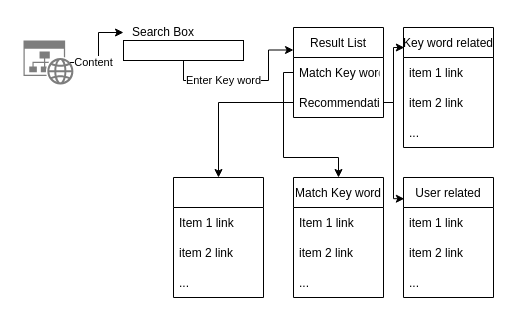
Some shapes in this 511 by 315 pixel diagram are drawn without their labels. Each missing label, with the box of its shape:
Home Page: (23, 40, 73, 84)
What other people searched: (172, 176, 264, 298)
